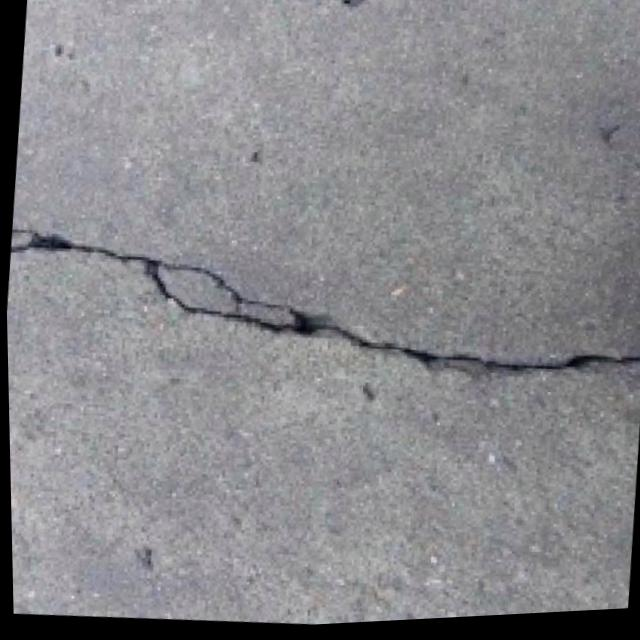Crack: (3, 168, 640, 449)
